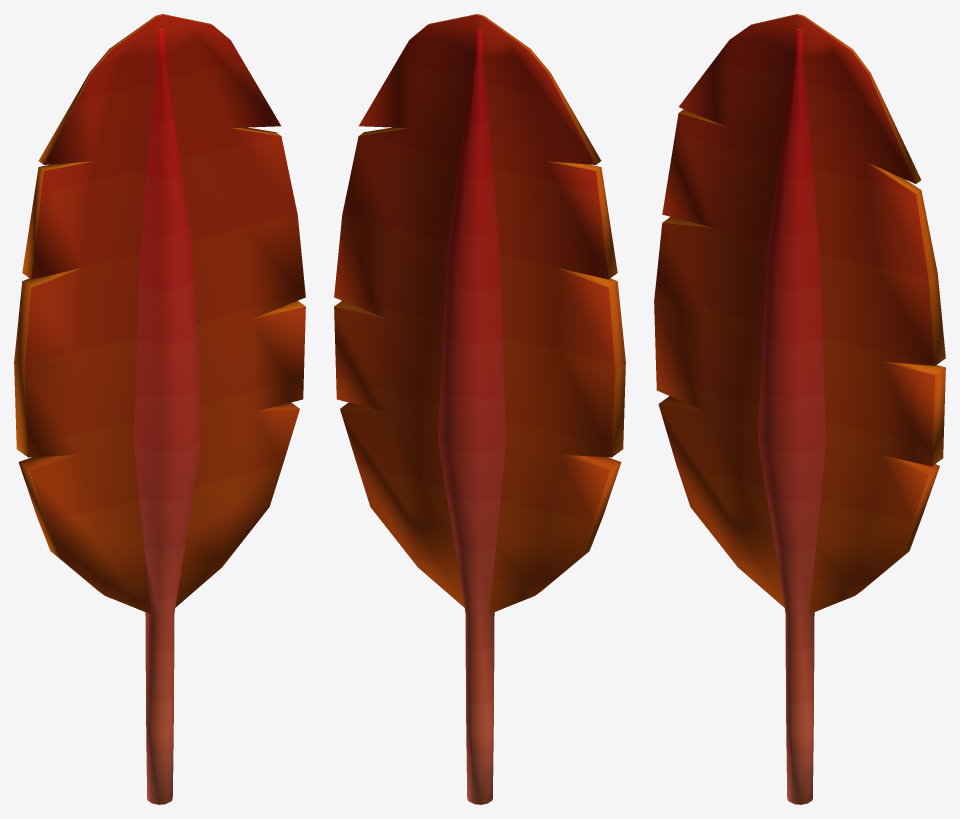
The model's file is feather.glb.
The picture shows the model from 3 angles, left to right: view 1: azimuth 30°, elevation 25°; view 2: azimuth 150°, elevation 25°; view 3: azimuth 330°, elevation 25°; orthographic projection.
Visible parts, largest first — view 1: Cylinder; view 2: Cylinder; view 3: Cylinder.
Boxes of the visible parts, x1,y1,x2,y2 form: Cylinder: [14, 14, 305, 804]; Cylinder: [334, 14, 625, 804]; Cylinder: [654, 14, 945, 804].
Size of the model in its own units: 3.15 by 8.41 by 1.
Materials: 1 (1 with a texture image).
